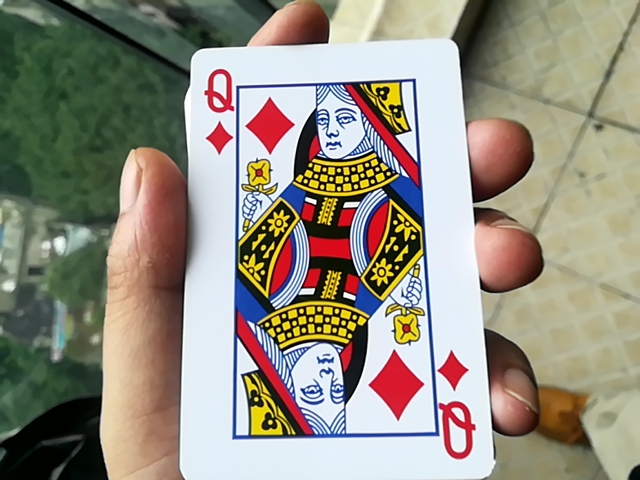fk q: (152, 39, 493, 480)
